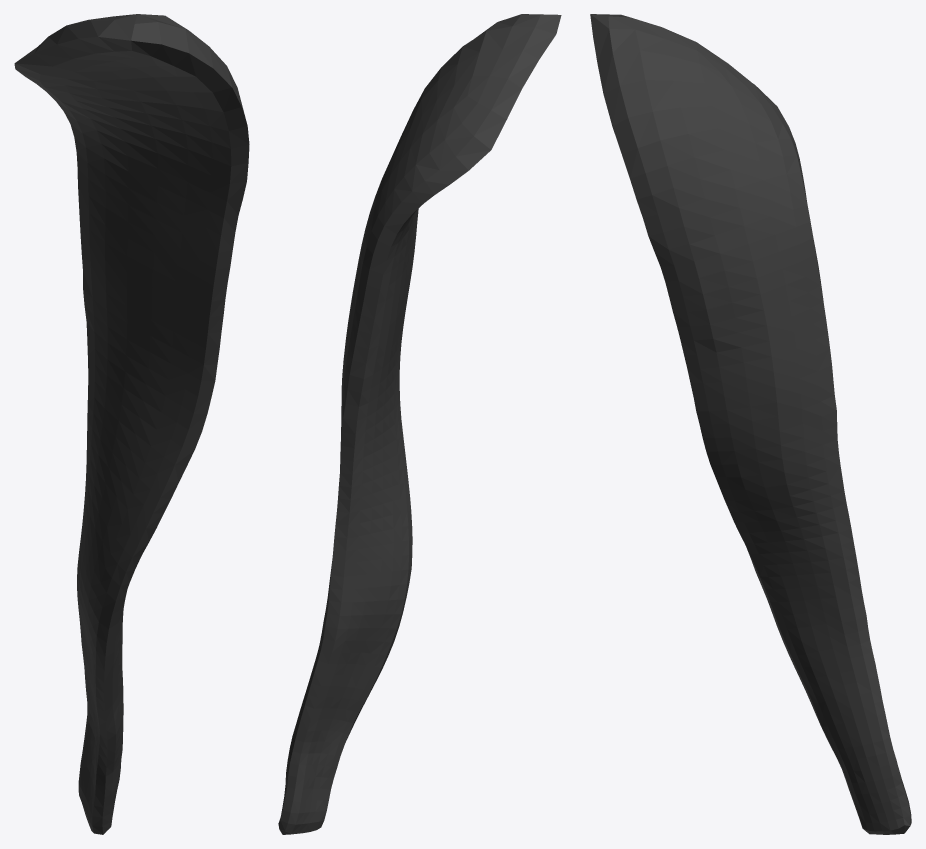
Rendered from Cleidobrachialis_cerv.glb.
3 renders of one model, left to right at view 1: azimuth 30°, elevation 25°; view 2: azimuth 150°, elevation 25°; view 3: azimuth 270°, elevation 25°, orthographic. The views are drawn at different scales.
Parts seen in each view (by area): view 1: Cleidobrachialis_cerv; view 2: Cleidobrachialis_cerv; view 3: Cleidobrachialis_cerv.
Part boxes in pixels (x1,y1,x2,y2): Cleidobrachialis_cerv: (14, 14, 249, 834); Cleidobrachialis_cerv: (278, 14, 561, 834); Cleidobrachialis_cerv: (590, 14, 911, 834).
Bounding box in the file's own units: 0.2897 × 1.48 × 0.5627.
1 material, 1 textured.
